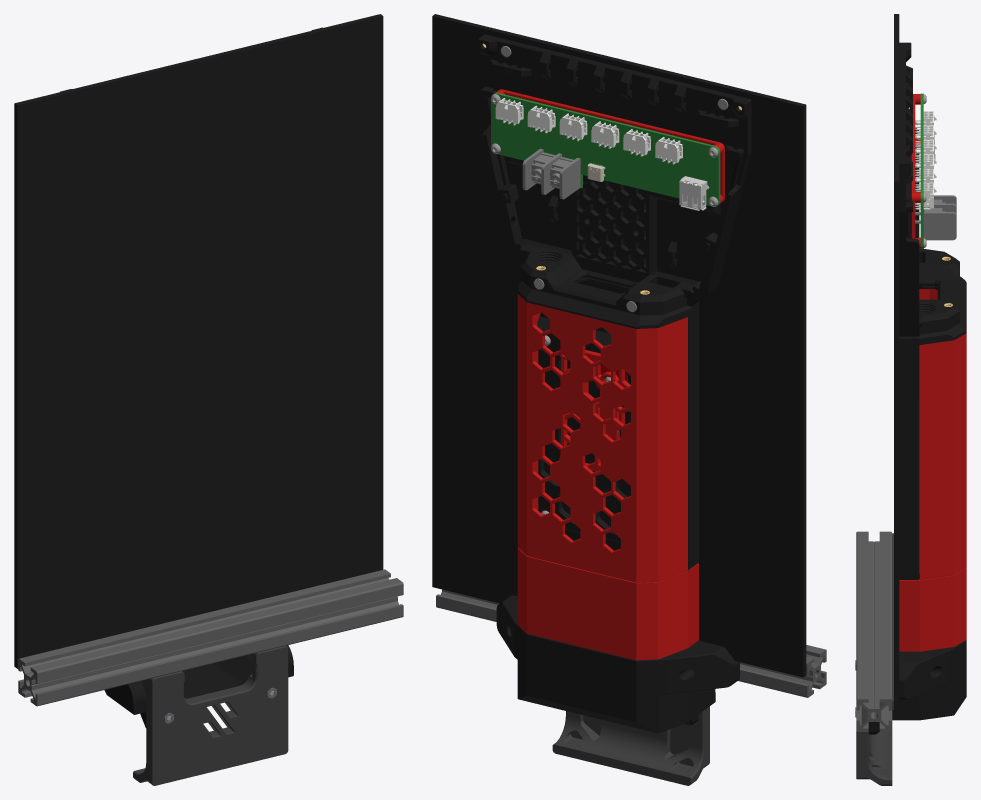
File: Wire_Duct.glb
3 renders of one model, left to right at view 1: azimuth 30°, elevation 25°; view 2: azimuth 150°, elevation 25°; view 3: azimuth 270°, elevation 25°, orthographic. The views are drawn at different scales.
Visible parts, largest first — view 1: SOLID, Frame, Center Skirt, 90 Center Rear Skirt; view 2: SOLID, Fanny Pack Base, Wire Duct Cover, 90 Center Rear Skirt, Wire Duct Connector Scaled, Open CASCADE STEP translator 6.8 1.1.1 (2), Center Skirt, Wire Duct Base, Frame, Wire Duct Connector, Wire Duct EMS, LW1C-11.0-2P-1Y-00A_RGB8421504 (2) (+3 smaller); view 3: Wire Duct Cover, Fanny Pack Base, Frame, Wire Duct Base, 90 Center Rear Skirt, Wire Duct Connector Scaled, SOLID, Center Skirt, LW1C-11.0-2P-1Y-00A_RGB8421504 (2), Hexa Bracket, Open CASCADE STEP translator 6.8 1.1.1 (2), Foam Tape (1mm) (1) (3) (+6 smaller).
Part boxes in pixels (bbox=[...]): SOLID: bbox=[14, 14, 383, 668]; Frame: bbox=[18, 569, 403, 706]; Center Skirt: bbox=[133, 645, 288, 785]; 90 Center Rear Skirt: bbox=[104, 645, 293, 727]; SOLID: bbox=[432, 14, 806, 677]; Fanny Pack Base: bbox=[478, 34, 751, 315]; Wire Duct Cover: bbox=[517, 294, 687, 582]; 90 Center Rear Skirt: bbox=[496, 595, 739, 733]; Wire Duct Connector Scaled: bbox=[517, 548, 698, 659]; Open CASCADE STEP translator 6.8 1.1.1 (2): bbox=[491, 92, 720, 206]; Center Skirt: bbox=[552, 706, 709, 785]; Wire Duct Base: bbox=[517, 278, 698, 570]; Frame: bbox=[436, 589, 826, 697]; Wire Duct Connector: bbox=[517, 608, 698, 660]; Wire Duct EMS: bbox=[538, 330, 630, 542]; LW1C-11.0-2P-1Y-00A_RGB8421504 (2): bbox=[522, 148, 580, 199]; Wire Duct Cover: bbox=[919, 289, 966, 579]; Fanny Pack Base: bbox=[899, 42, 959, 336]; Frame: bbox=[856, 531, 892, 731]; Wire Duct Base: bbox=[899, 276, 966, 579]; 90 Center Rear Skirt: bbox=[868, 574, 966, 734]; Wire Duct Connector Scaled: bbox=[899, 568, 966, 651]; SOLID: bbox=[894, 14, 899, 709]; Center Skirt: bbox=[856, 731, 892, 785]; LW1C-11.0-2P-1Y-00A_RGB8421504 (2): bbox=[923, 195, 956, 240]; Hexa Bracket: bbox=[911, 94, 920, 248]; Open CASCADE STEP translator 6.8 1.1.1 (2): bbox=[920, 93, 923, 248]; Foam Tape (1mm) (1) (3): bbox=[892, 533, 893, 709].
Size of the model in its own units: 0.22 by 0.4029 by 0.0616.
